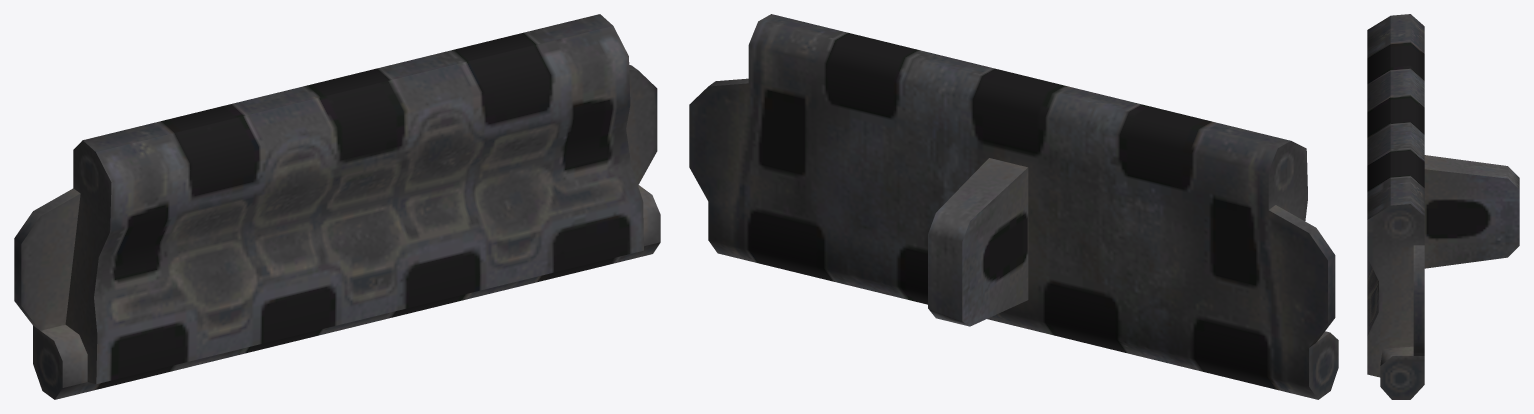
3 views of the same model, side by side, from view 1: azimuth 30°, elevation 25°; view 2: azimuth 150°, elevation 25°; view 3: azimuth 270°, elevation 25° (orthographic). The views are drawn at different scales.
Parts seen in each view (by area): view 1: set_0_group_0; view 2: set_0_group_0; view 3: set_0_group_0.
Part boxes in pixels (x1,y1,x2,y2): set_0_group_0: (14,14,660,399); set_0_group_0: (689,14,1338,399); set_0_group_0: (1367,14,1519,399).
Size of the model in its own units: 0.4008 by 0.145 by 0.1105.
Materials: 1 (1 with a texture image).
